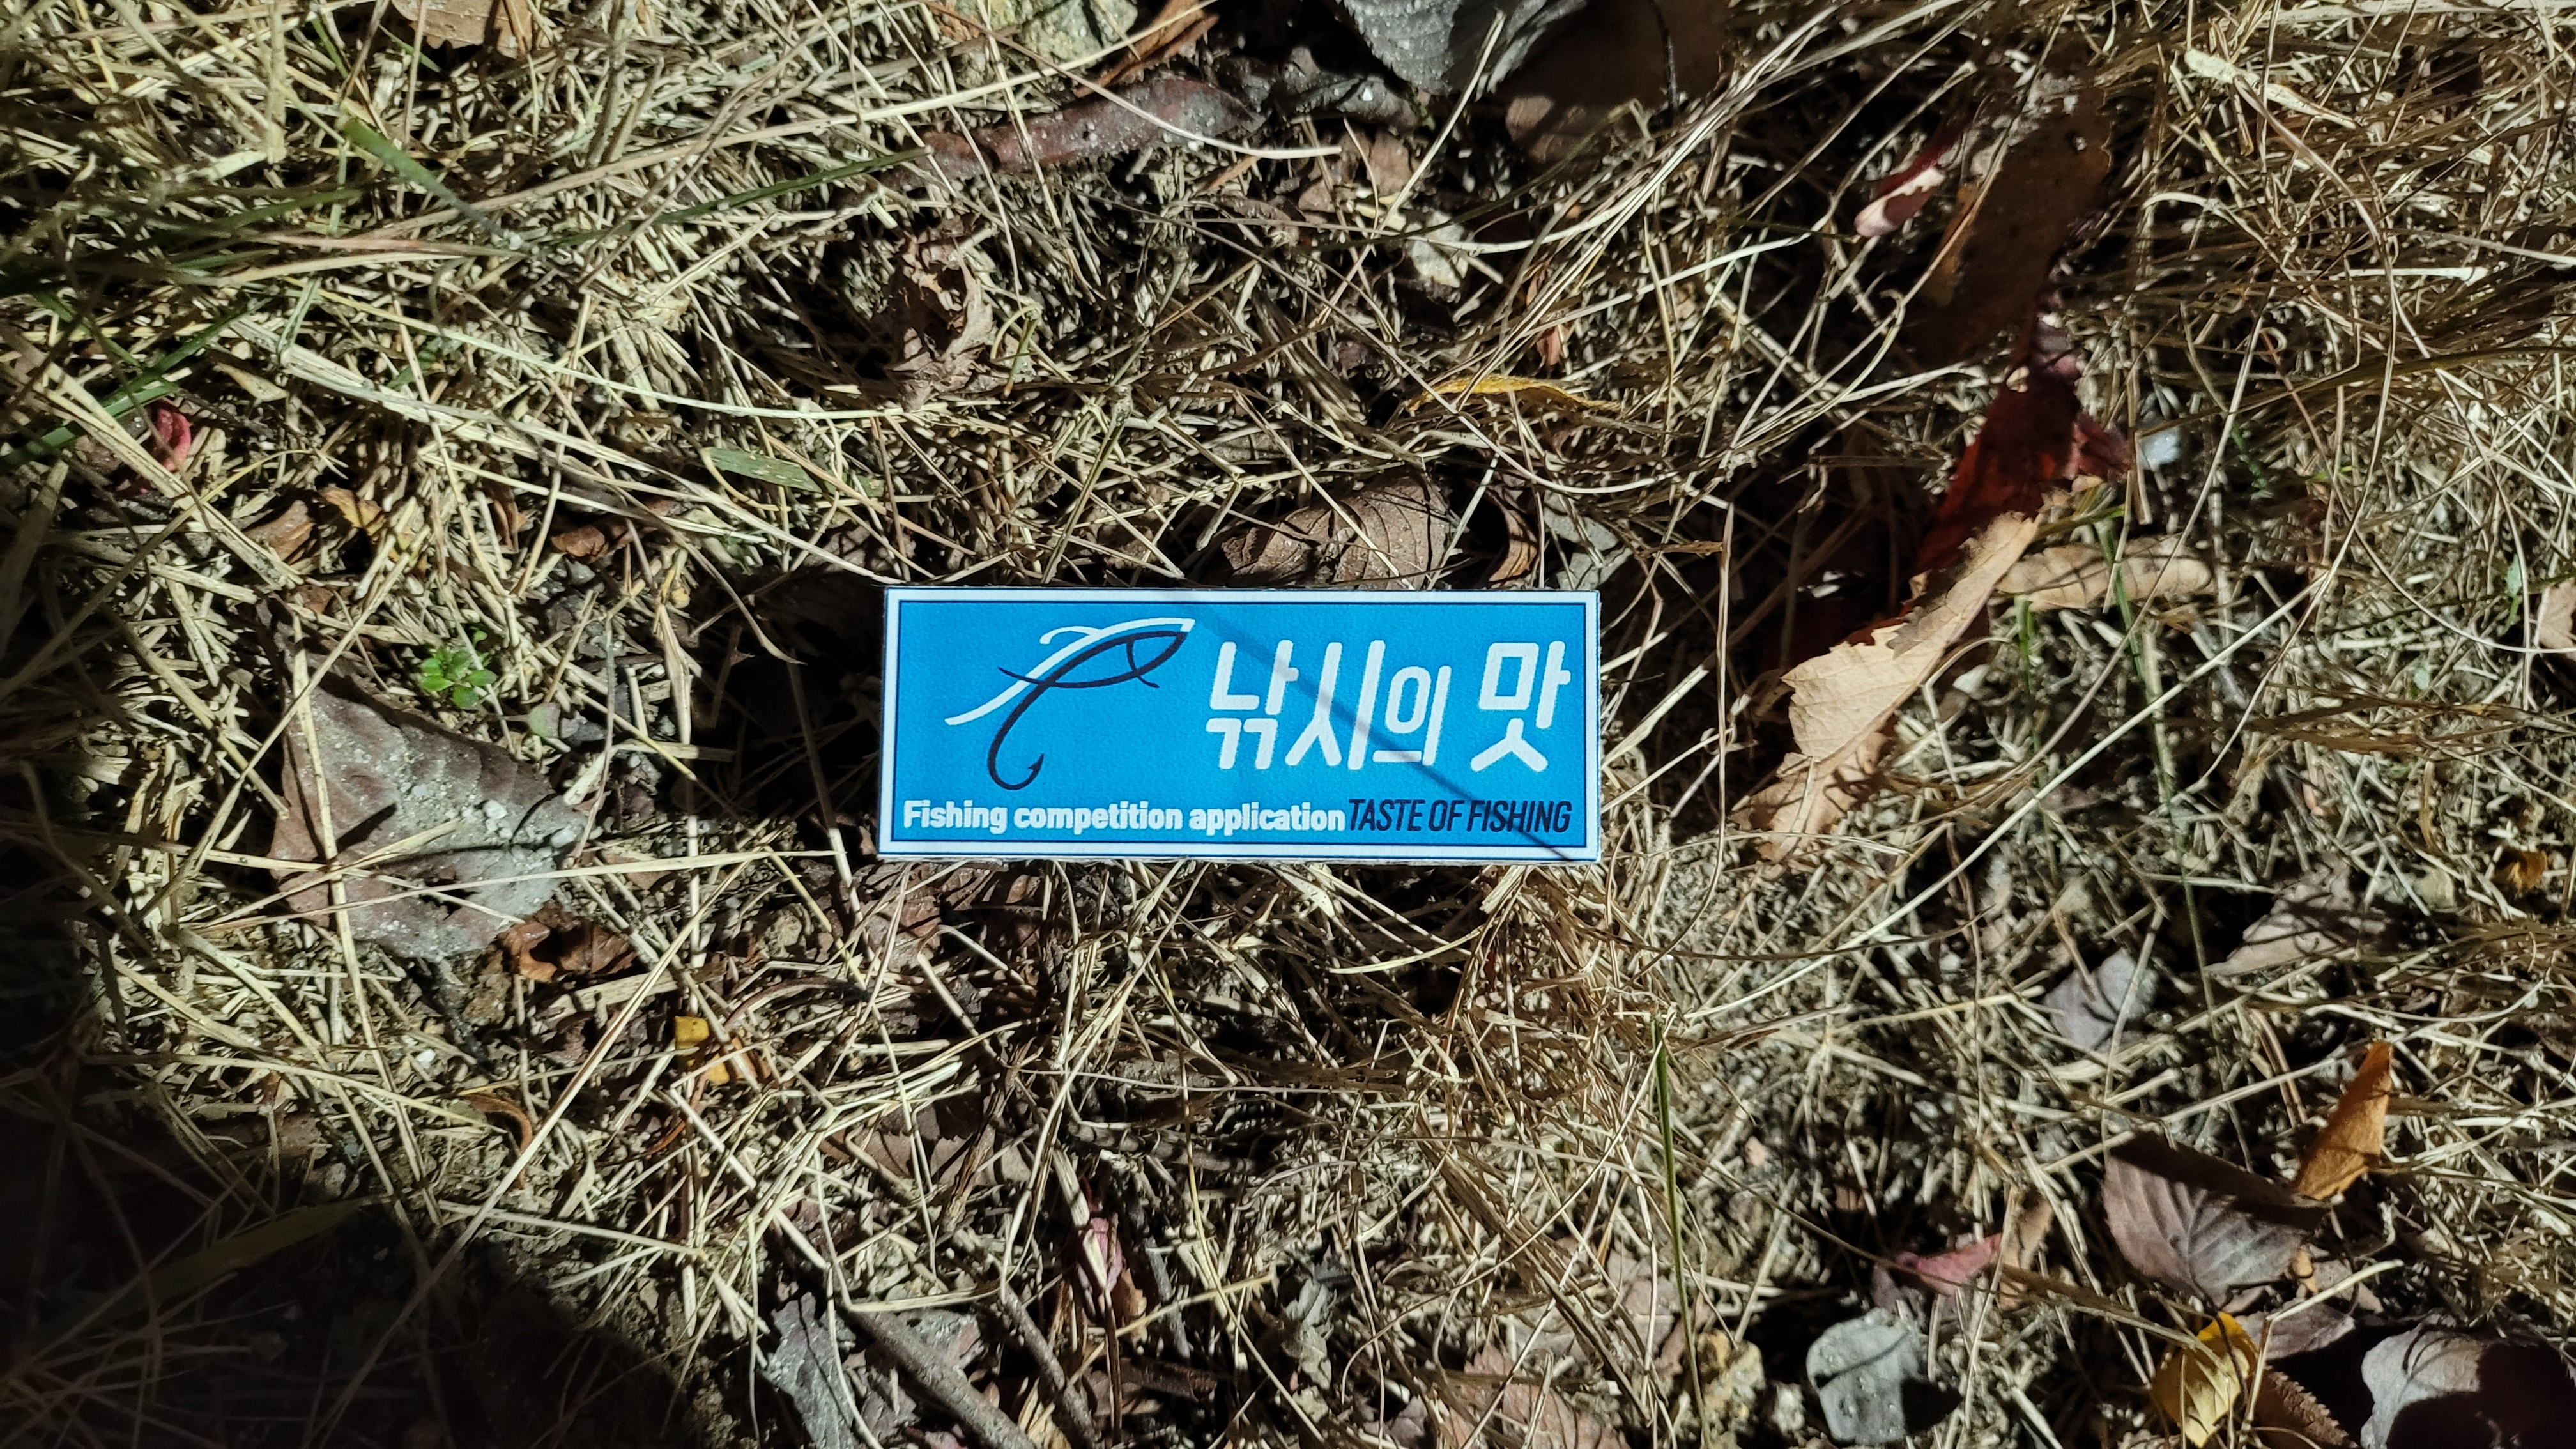tag: (883, 584, 1605, 865)
